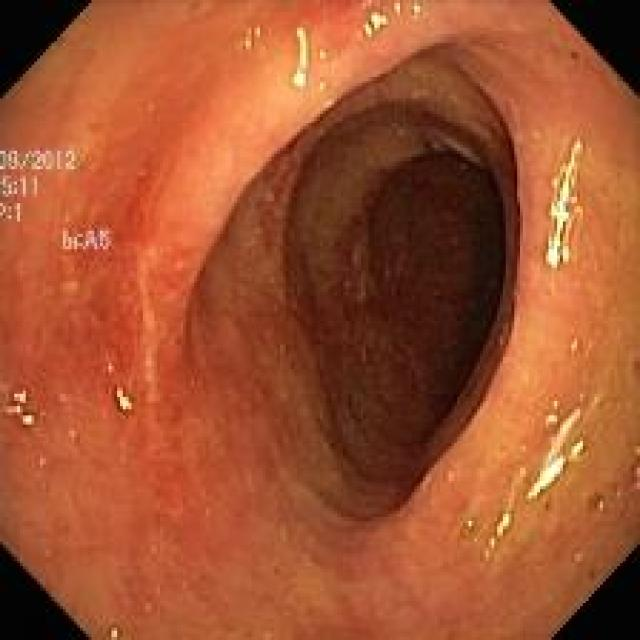ulcerative-colitis-grade-1-2: (1, 1, 540, 638)
